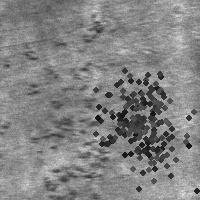rolled-in_scale: (93, 92, 200, 200), (31, 52, 105, 199), (91, 52, 189, 150), (66, 74, 162, 170), (52, 13, 104, 48)
